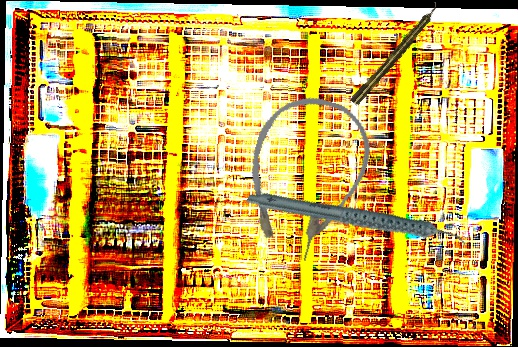Cannula: (226, 84, 383, 270)
Handpiece: (245, 150, 468, 292), (348, 1, 444, 107)
